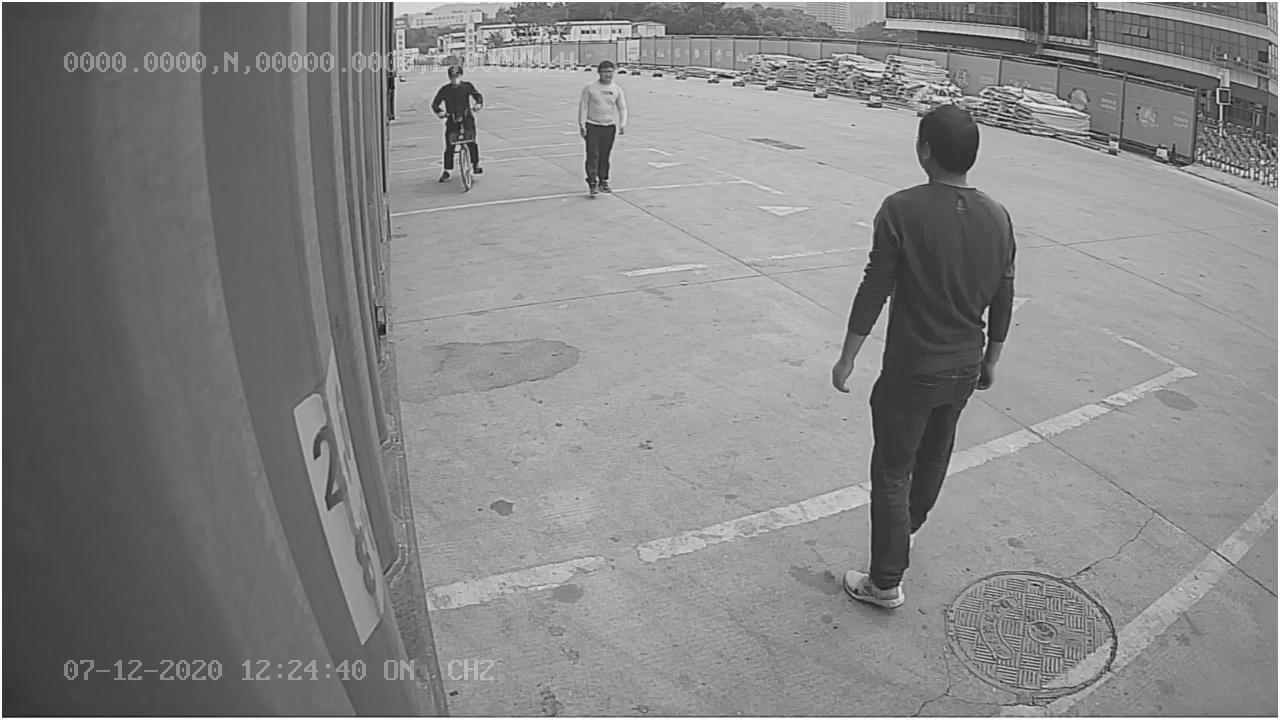person: (572, 60, 633, 204)
